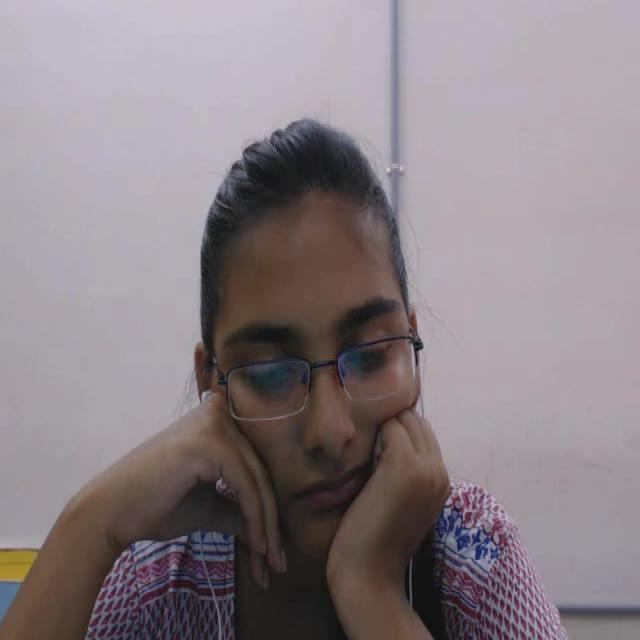Bored: (153, 95, 460, 620)
